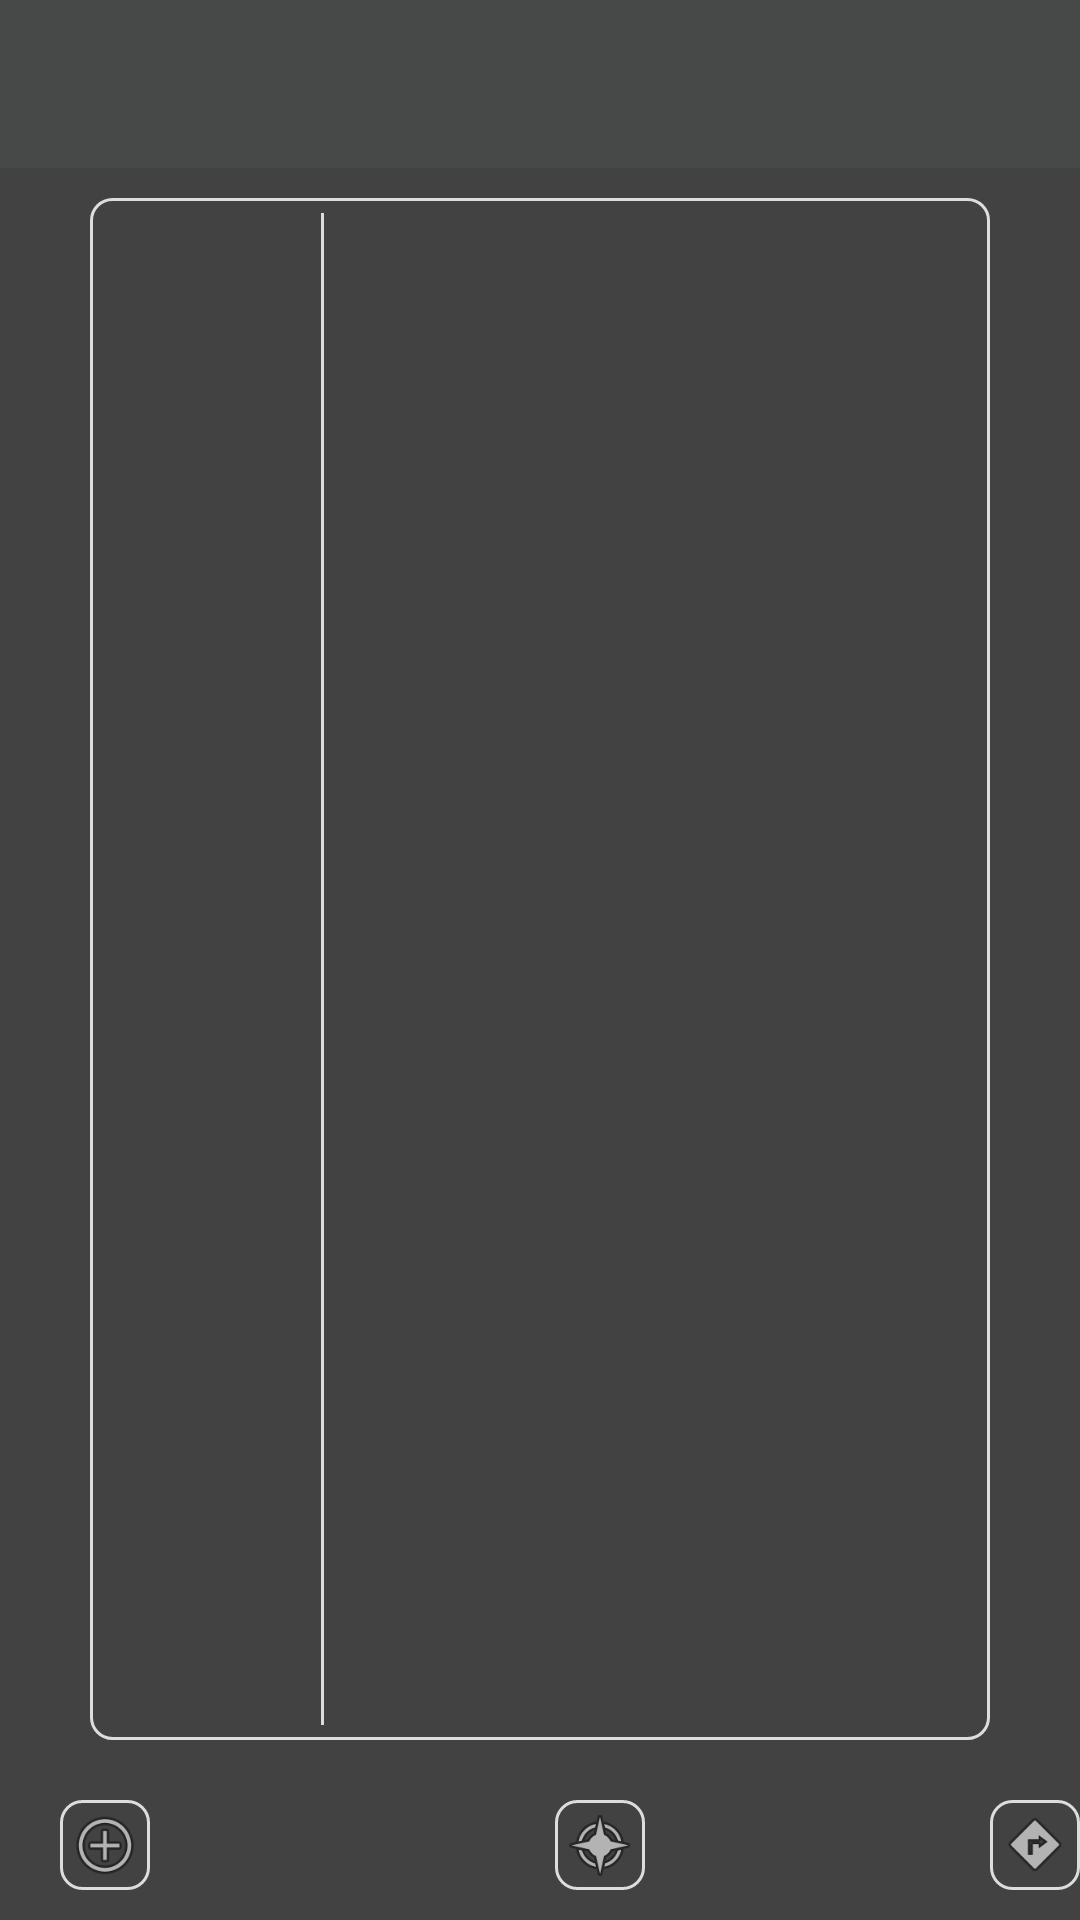

Icons on this 1080 × 1920 Android screen, each with its box as (left=x1, top=y1, right=x2, bottom=y2):
add: (left=60, top=1800, right=150, bottom=1890)
compass: (left=555, top=1800, right=645, bottom=1890)
directions: (left=990, top=1800, right=1080, bottom=1890)
